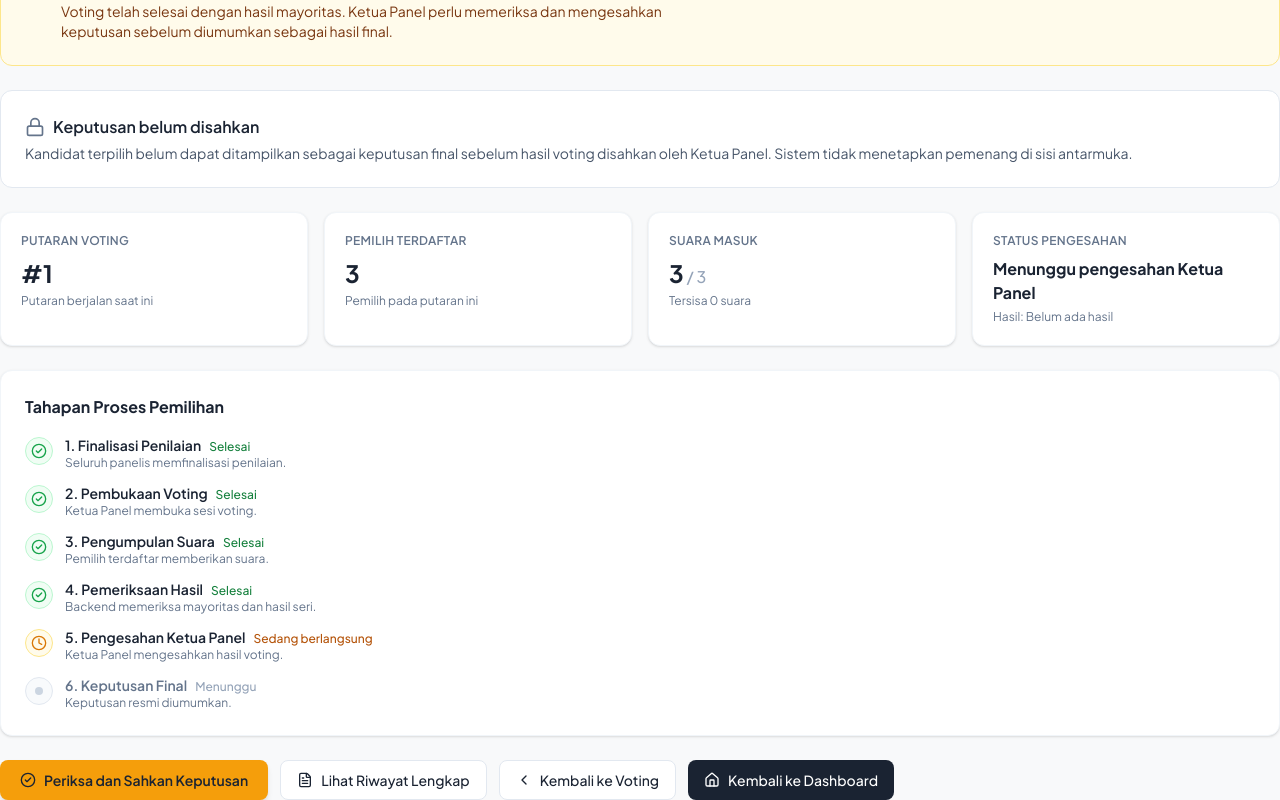
FinalDecisionPage › menampilkan error pengesahan dan menjaga modal tetap terbuka
(page scrolled)
Click the button "Periksa dan Sahkan Keputusan".
click(134, 780)  # box [0,760,268,799]
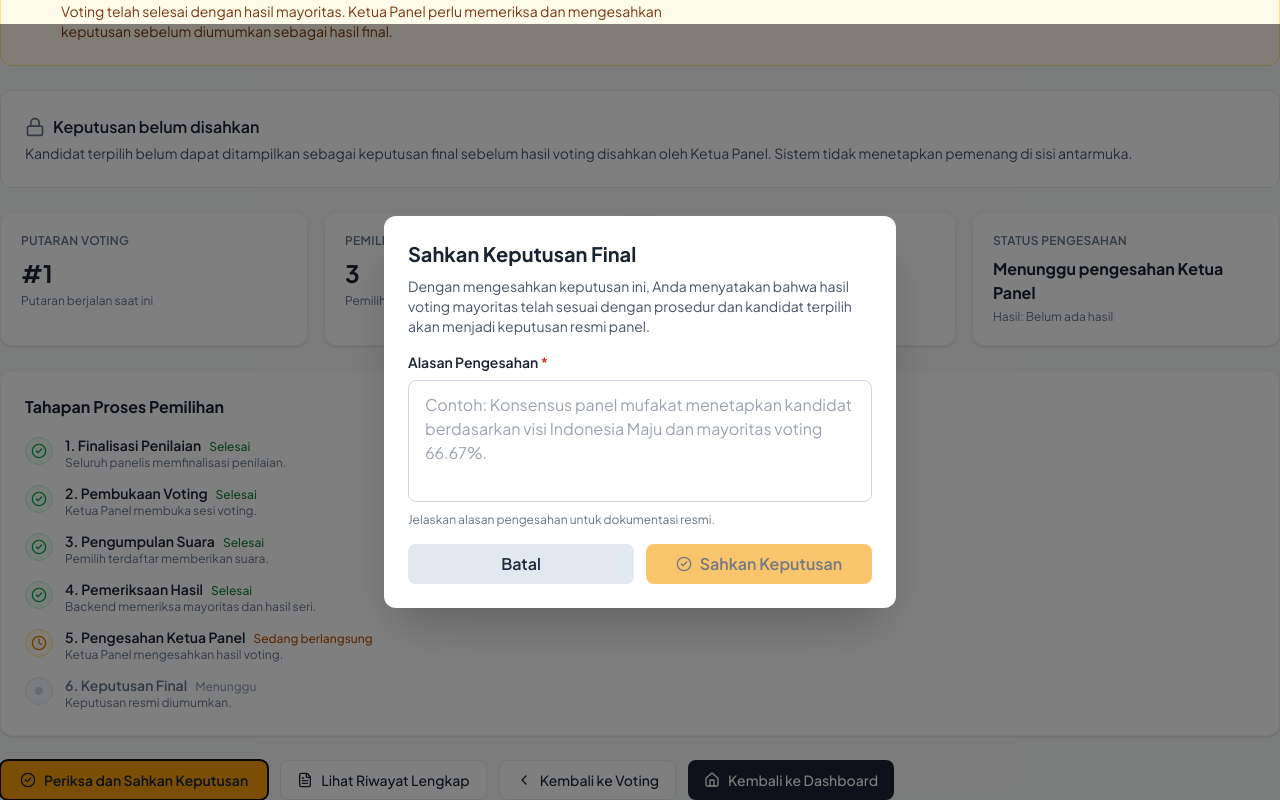
Type "Alasan pengesahan." into the text box labelled "Alasan Pengesahan *".
click(640, 441); type("Alasan pengesahan.")  # box [408,380,872,502]
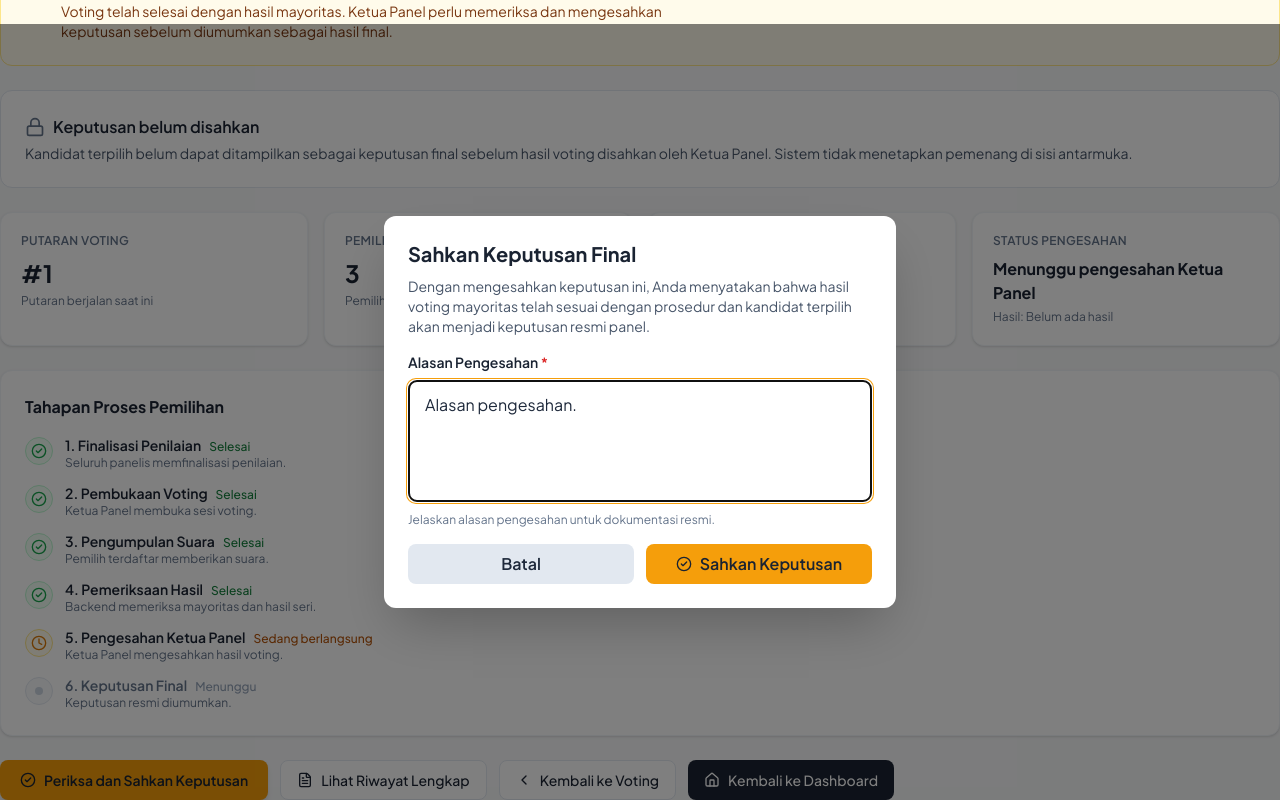
Click the button "Sahkan Keputusan".
click(759, 564)  # box [646,544,872,584]
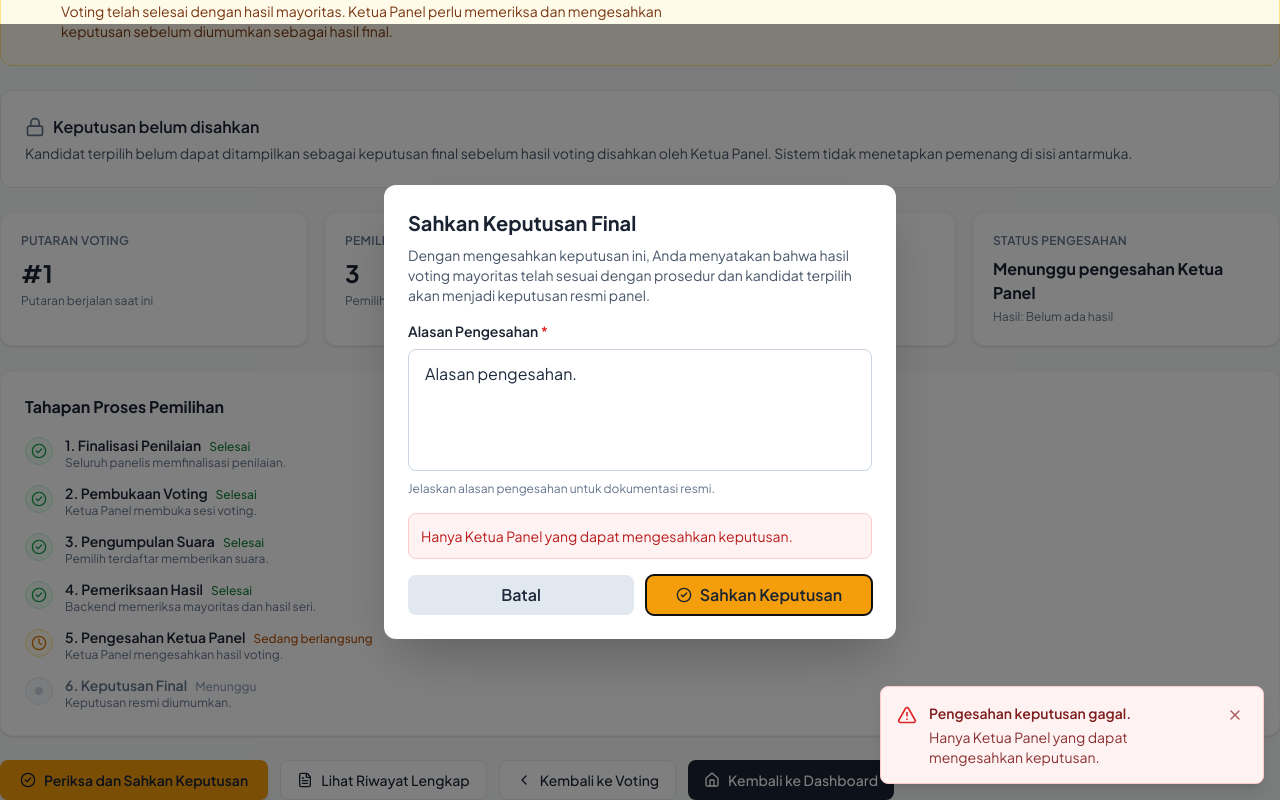
Now the dialog is shown, box [384,185,896,639]
Now the text "Hanya Ketua Panel yang dapat mengesahkan keputusan." below "Sahkan Keputusan Final" is shown, box [421,527,793,545]
